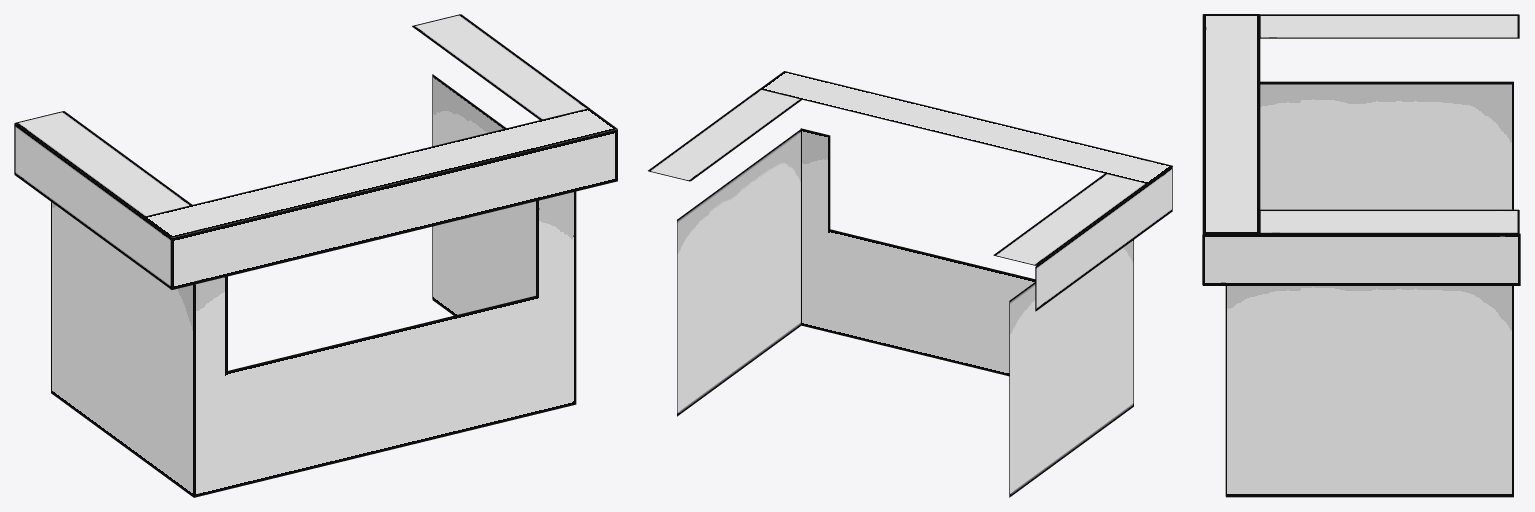
File: Lantai 5.gltf
3 views of the same model, side by side, from view 1: azimuth 30°, elevation 25°; view 2: azimuth 150°, elevation 25°; view 3: azimuth 270°, elevation 25° (orthographic). The views are drawn at different scales.
Visible parts, largest first — view 1: default; view 2: default; view 3: default.
Part boxes in pixels (x1=…): default: x1=14, y1=14, x2=617, y2=497; default: x1=648, y1=71, x2=1172, y2=497; default: x1=1202, y1=14, x2=1520, y2=497.
Size of the model in its own units: 36.6 by 31 by 22.34.
1 material, 1 textured.
